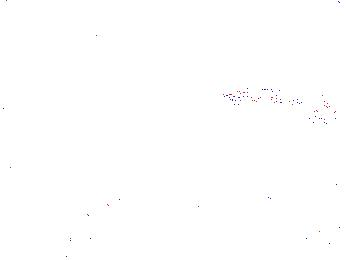glassfish: (67, 187, 136, 252), (222, 87, 306, 115)
red belly glassfish: (305, 104, 343, 124)
